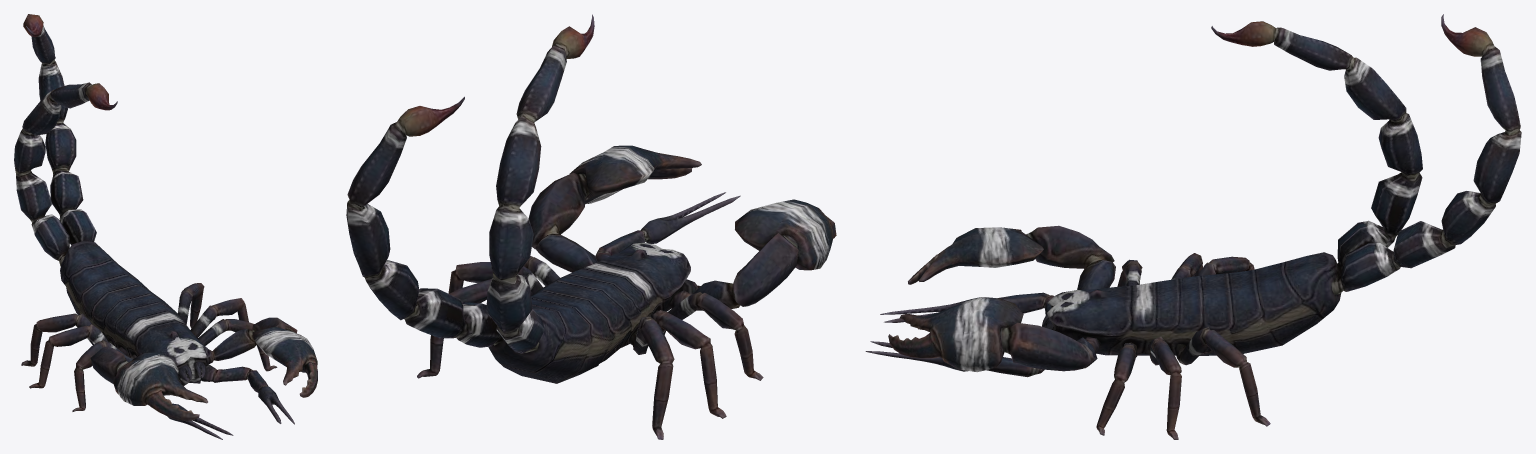
Rendered from 221-largescorpion.glb.
3 renders of one model, left to right at view 1: azimuth 30°, elevation 25°; view 2: azimuth 150°, elevation 25°; view 3: azimuth 270°, elevation 25°, orthographic. The views are drawn at different scales.
Bounding box in the file's own units: 1.14 × 1.38 × 2.35.
1 material, 1 textured.
